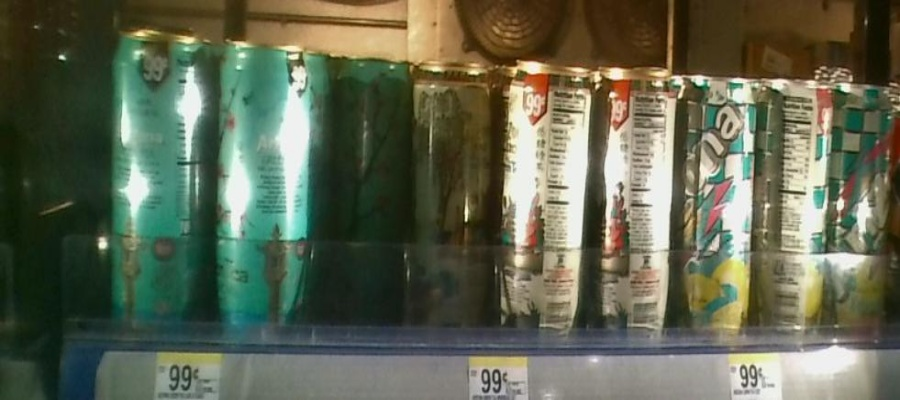bottle: (105, 15, 211, 332), (213, 17, 313, 343), (503, 51, 593, 347), (678, 52, 764, 348), (594, 45, 677, 345), (412, 45, 492, 350), (330, 41, 411, 325), (765, 62, 833, 345), (833, 73, 893, 348)
